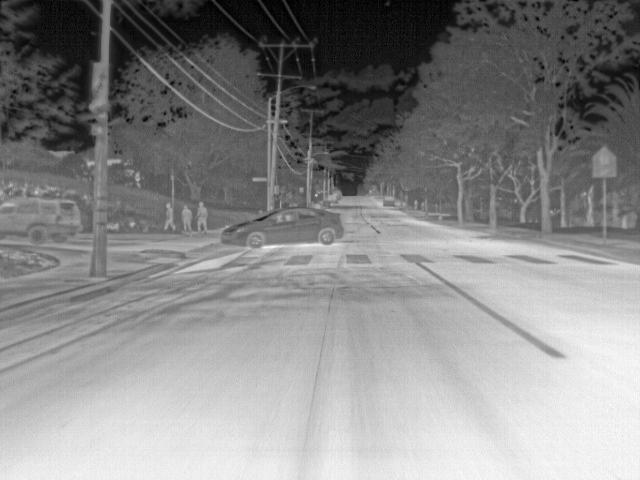car: (221, 204, 344, 248), (2, 197, 84, 246), (384, 195, 397, 208), (325, 199, 339, 211)
person: (196, 198, 210, 230), (181, 204, 195, 232), (163, 204, 176, 232)
